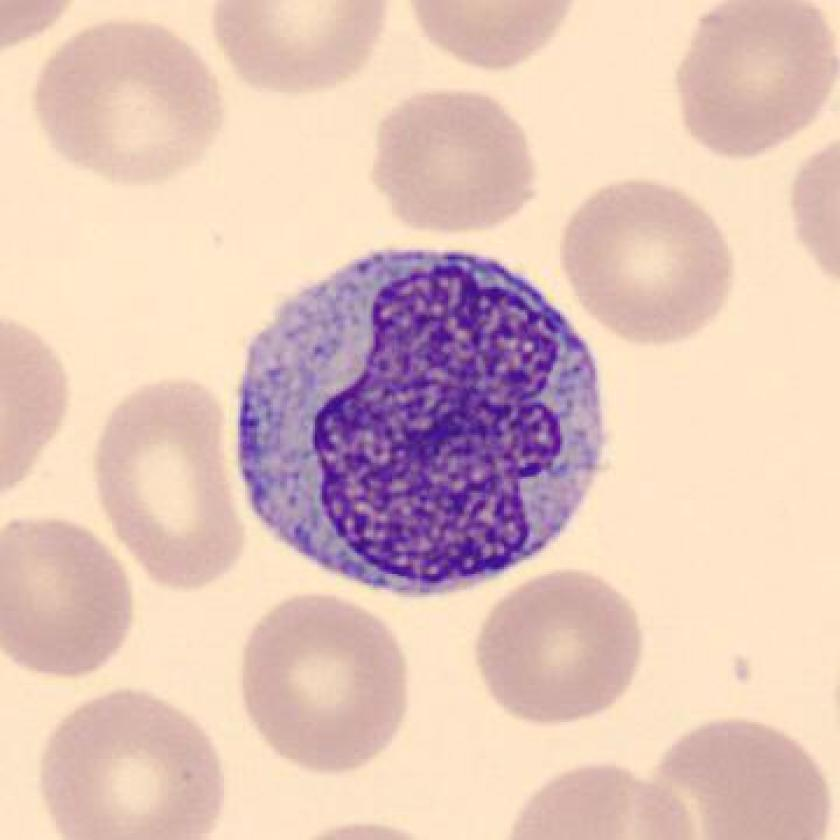monocyte: (218, 219, 626, 621)
